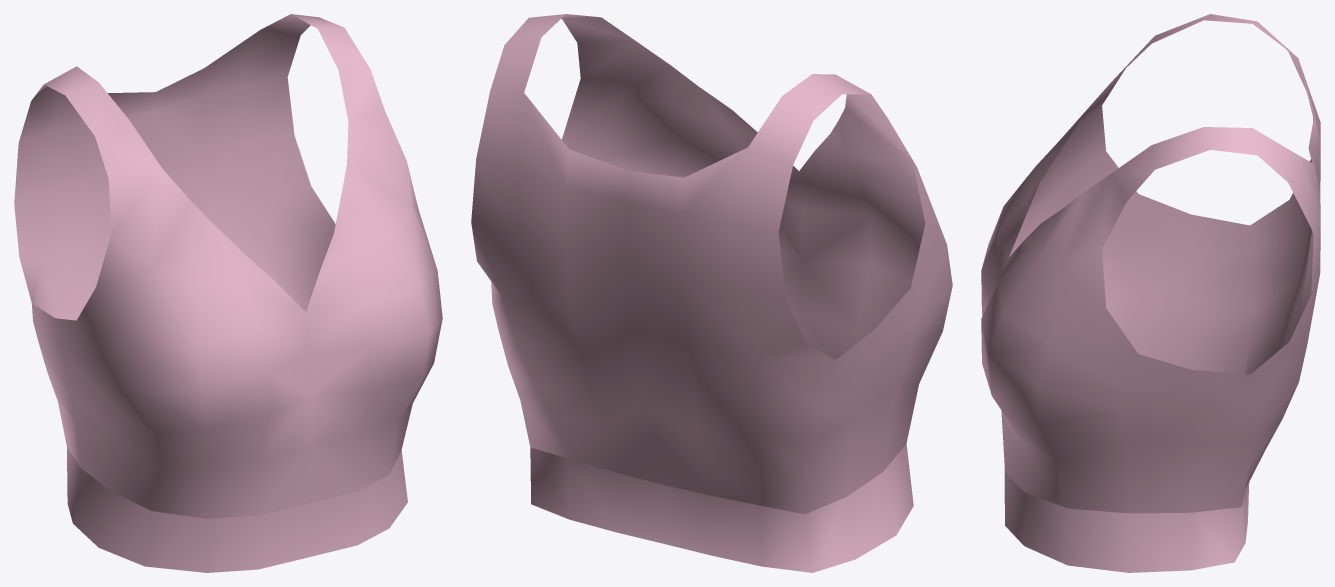
File: blouse_21.glb
3 renders of one model, left to right at view 1: azimuth 30°, elevation 25°; view 2: azimuth 150°, elevation 25°; view 3: azimuth 270°, elevation 25°, orthographic. The views are drawn at different scales.
Parts seen in each view (by area): view 1: blouse_21; view 2: blouse_21; view 3: blouse_21.
Part boxes in pixels (x1=…): blouse_21: x1=14, y1=14, x2=442, y2=572; blouse_21: x1=471, y1=14, x2=952, y2=572; blouse_21: x1=981, y1=14, x2=1320, y2=572.
Size of the model in its own units: 0.2752 by 0.3432 by 0.2466.
